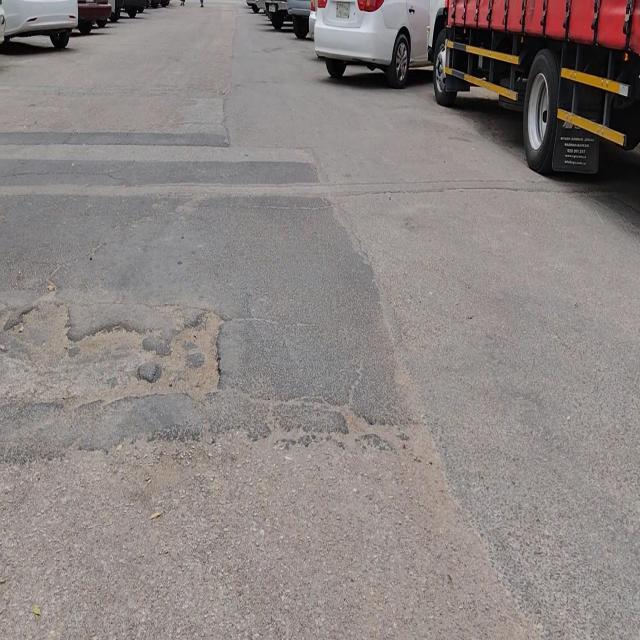Pothole: (2, 300, 223, 404)
